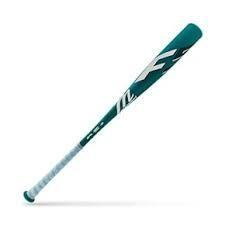Baseball-Bat: (24, 24, 202, 202)
